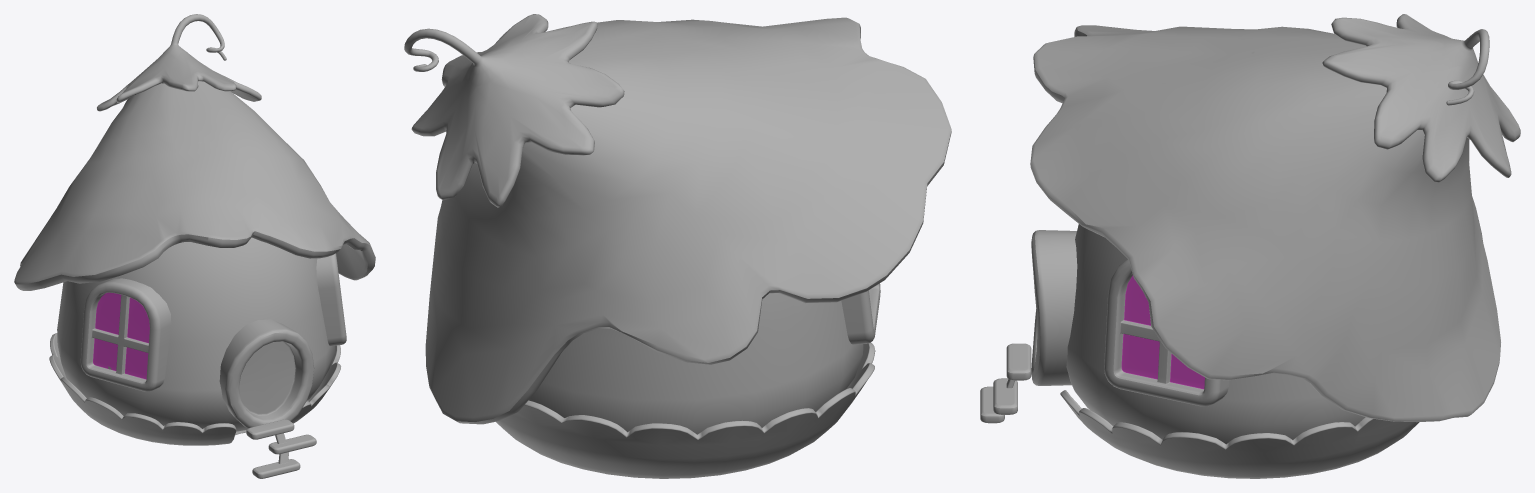
Rendered from S0_L_FlowerHouse.fbx.
3 views of the same model, side by side, from view 1: azimuth 30°, elevation 25°; view 2: azimuth 150°, elevation 25°; view 3: azimuth 270°, elevation 25° (orthographic). The views are drawn at different scales.
Visible parts, largest first — view 1: S0_L_FlowerHouse; view 2: S0_L_FlowerHouse; view 3: S0_L_FlowerHouse.
Part boxes in pixels (bbox=[...]): S0_L_FlowerHouse: bbox=[14, 14, 375, 478]; S0_L_FlowerHouse: bbox=[404, 14, 951, 478]; S0_L_FlowerHouse: bbox=[980, 14, 1520, 478].
Size of the model in its own units: 1577 by 1447 by 1617.
